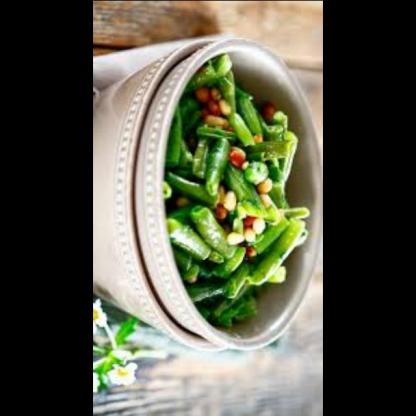fasol: (176, 71, 313, 307)
